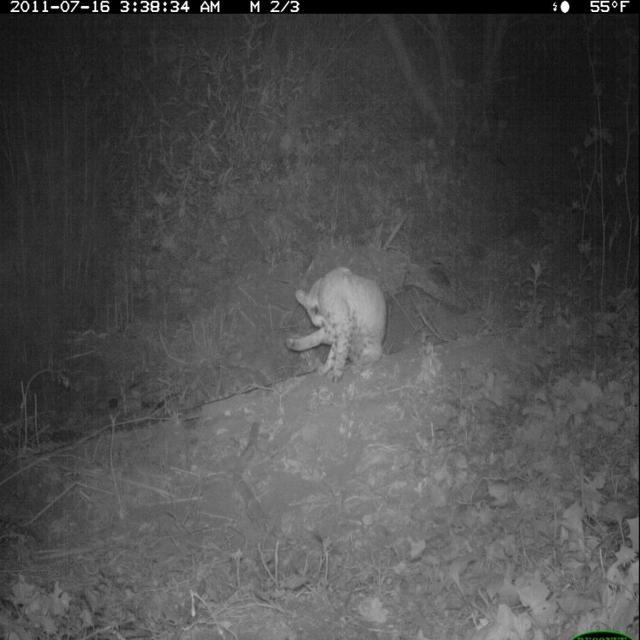bobcat: (285, 265, 390, 383)
